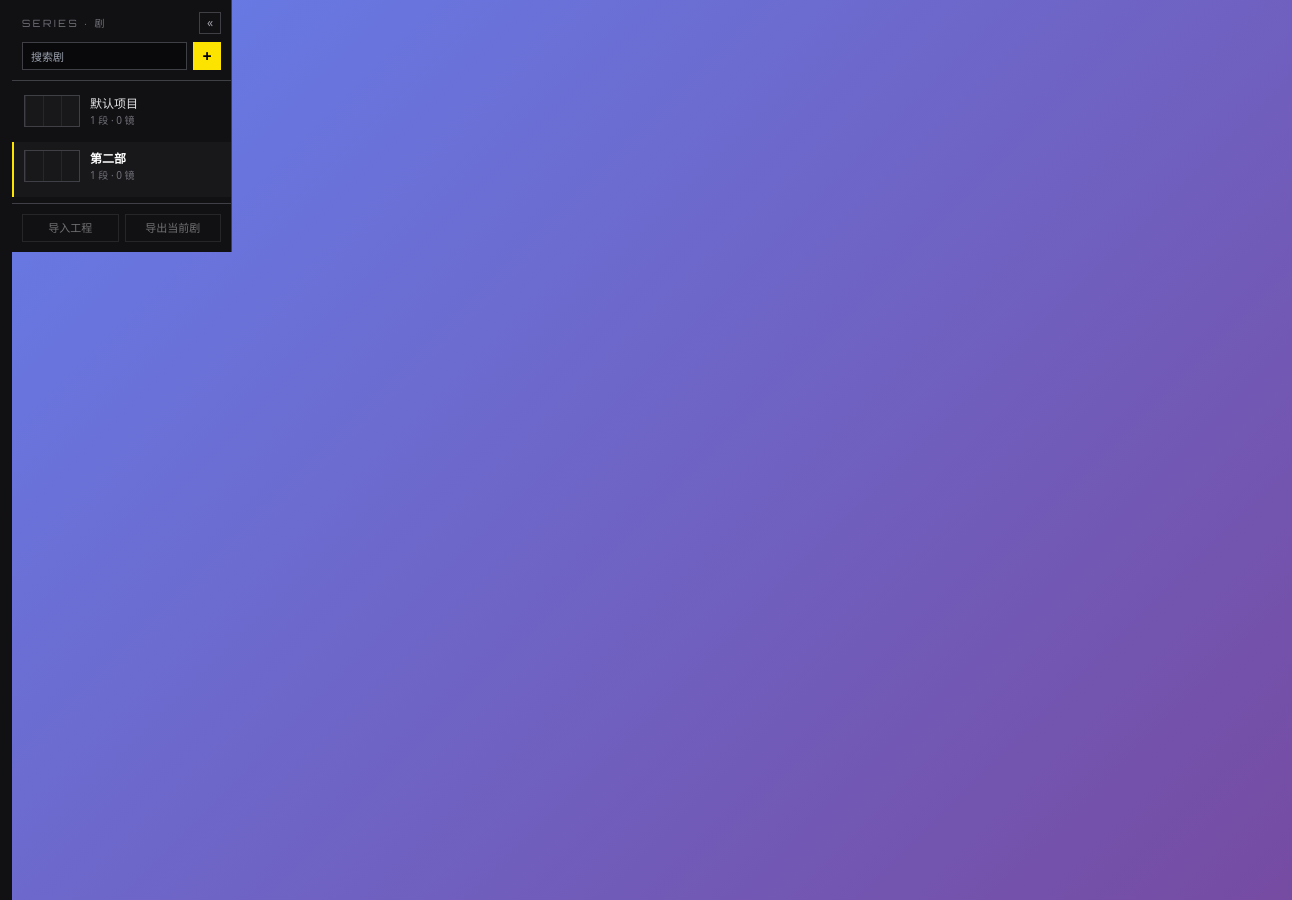
Scenario: ProjectRail › 点行切剧;点 + 新建并聚焦改名输入框,Enter 提交新名
This screenshot has width=1292, height=900.
Click the button with aria-label "切换到剧 默认项目": (122, 114) 14,87 -> 231,142
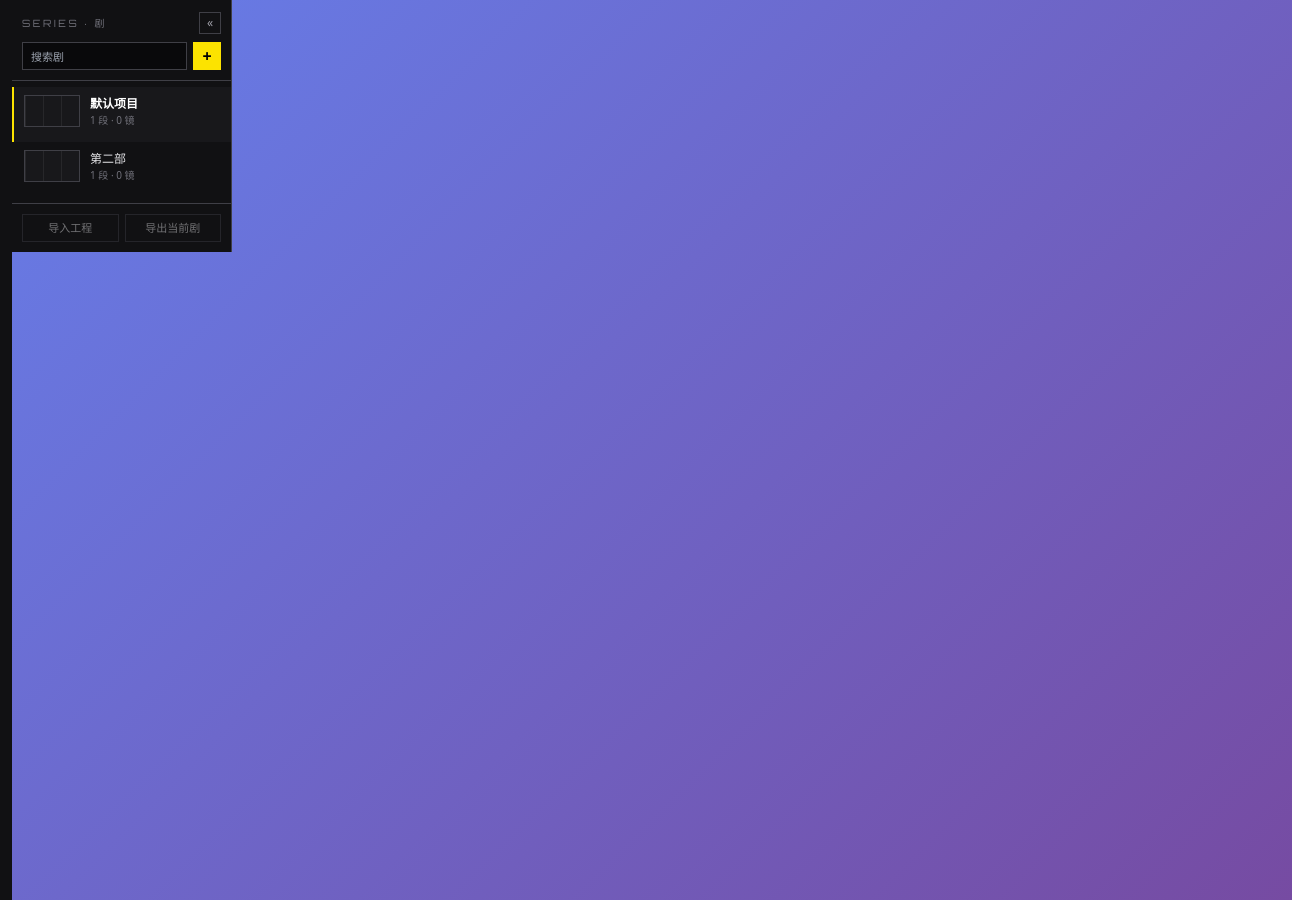
Click the button named "新建剧": (207, 56) 193,42 -> 221,70
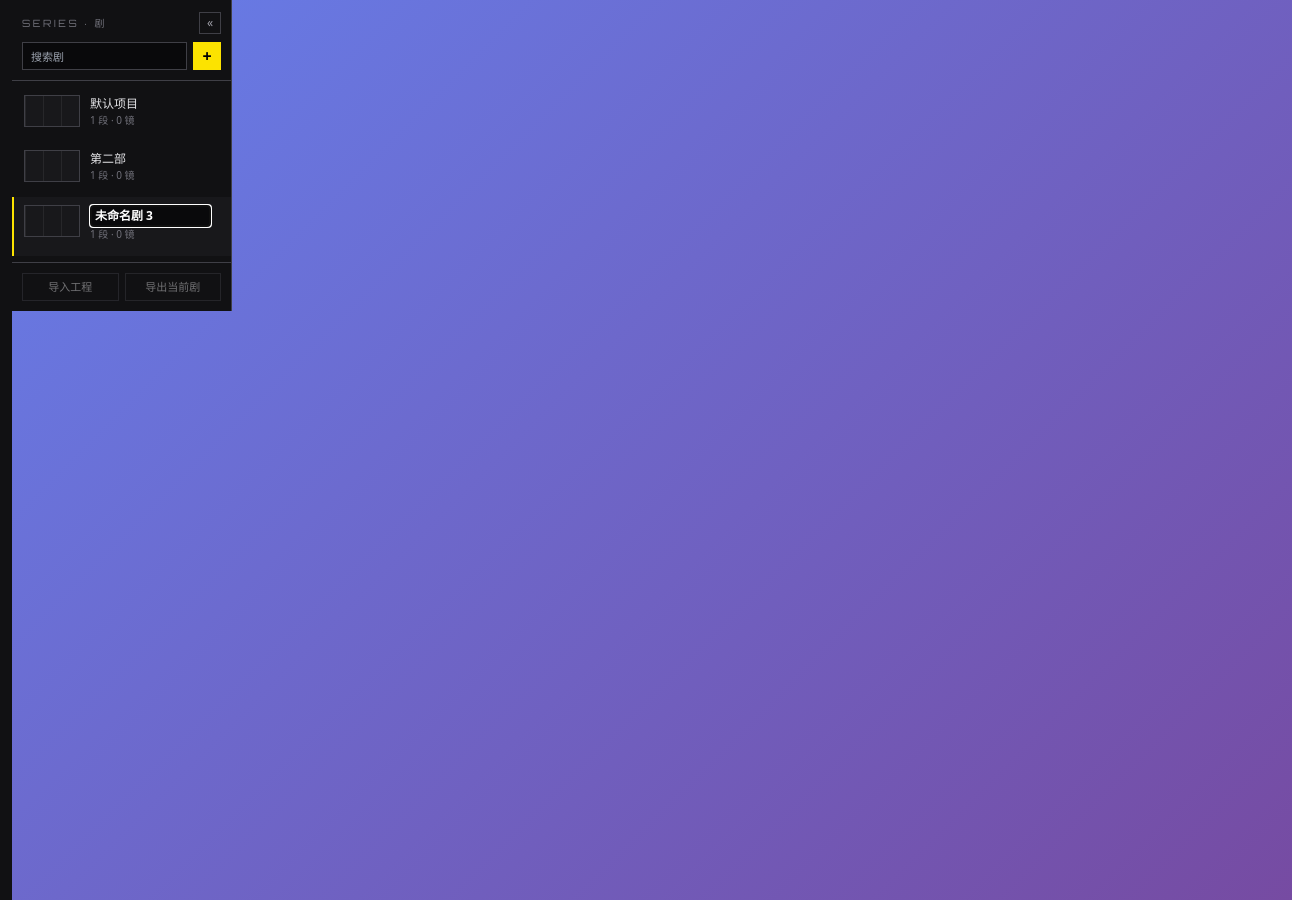
Replace the text in the field named "剧名" with "我的新剧": (150, 216) 90,205 -> 211,227
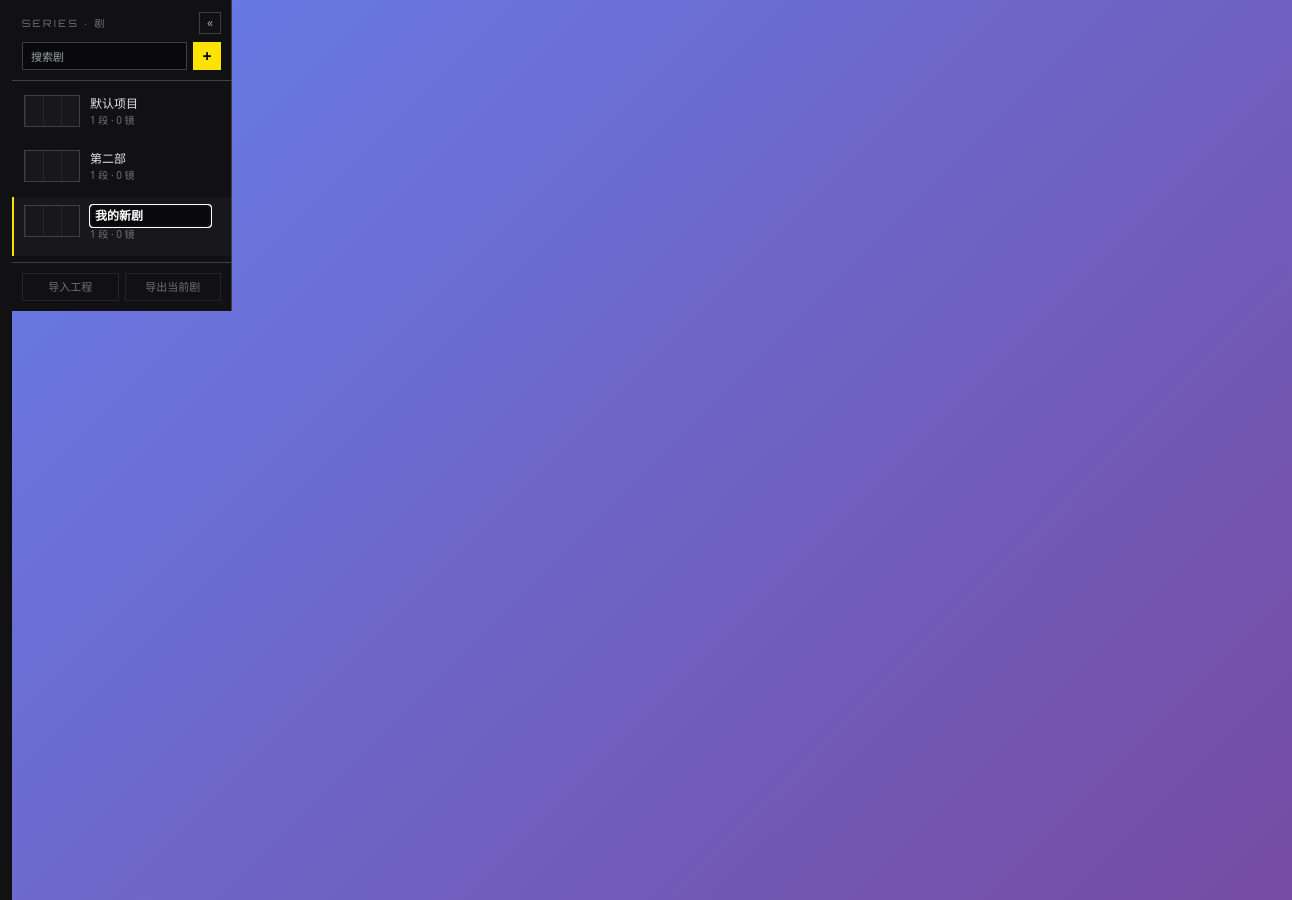
Press Enter in the field named "剧名", box 90,205 -> 211,227
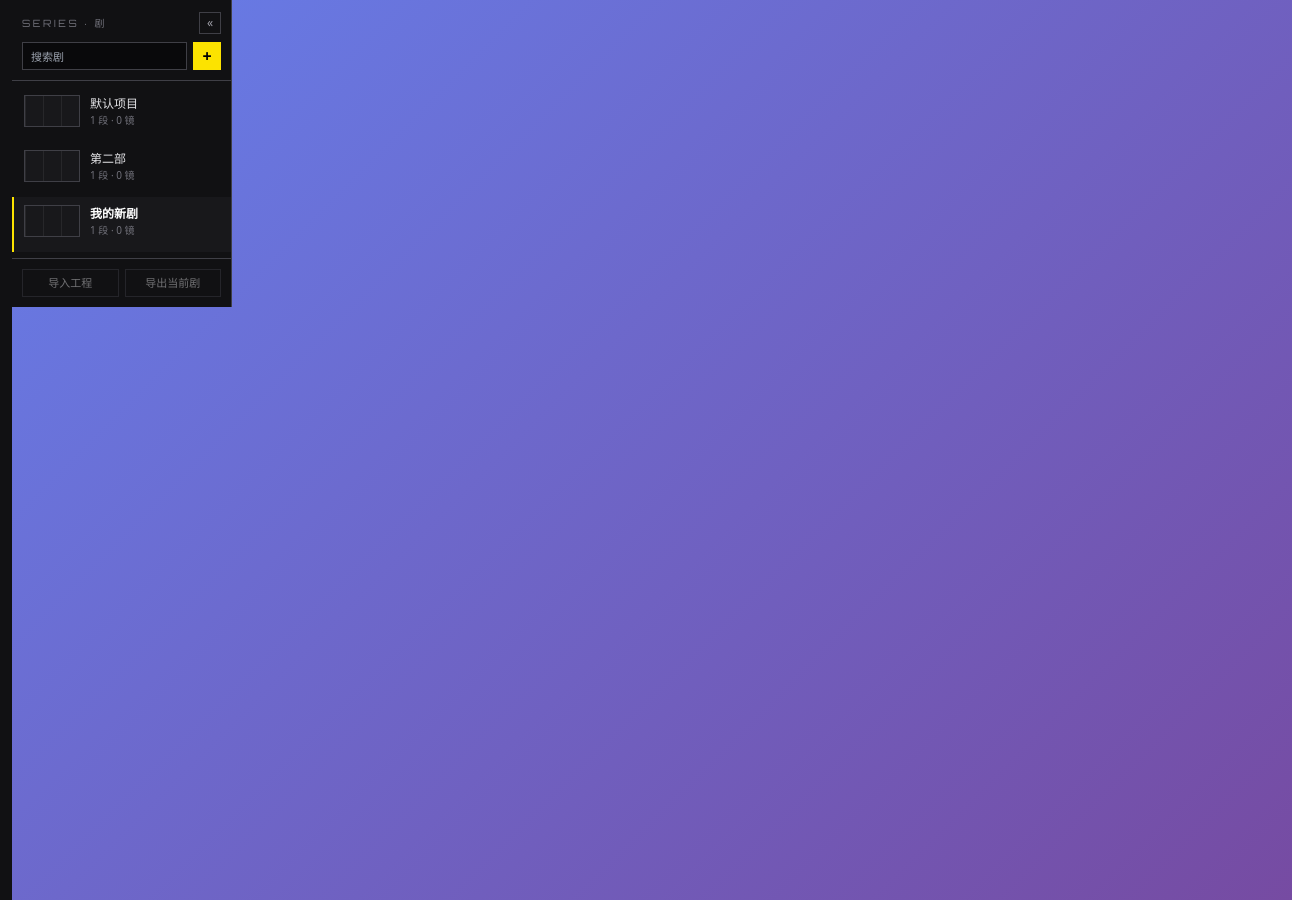
Check: the text "我的新剧" is shown, box 90,205 -> 138,223
